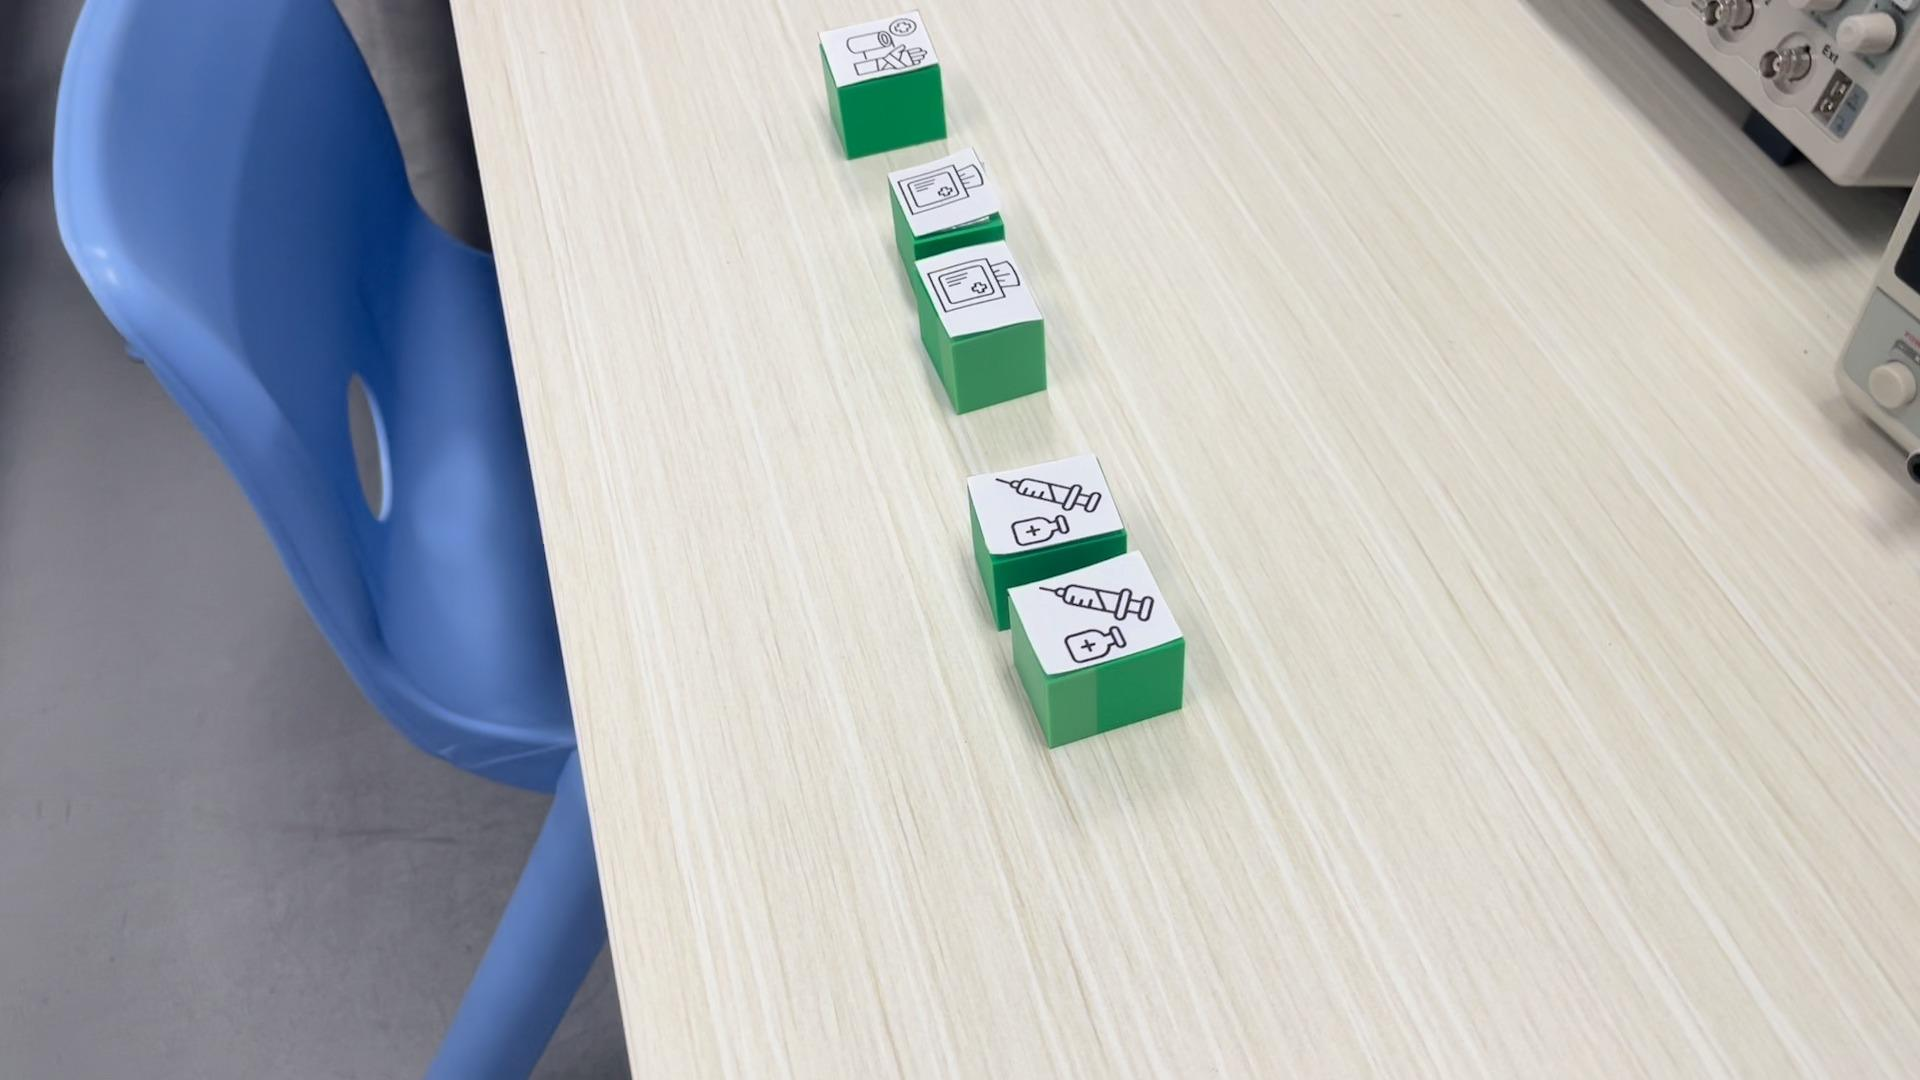Bandages: (816, 8, 945, 160)
Gauze: (916, 240, 1050, 415), (886, 148, 1004, 258)
antiseptic cream: (1009, 549, 1187, 748), (968, 452, 1126, 584)
